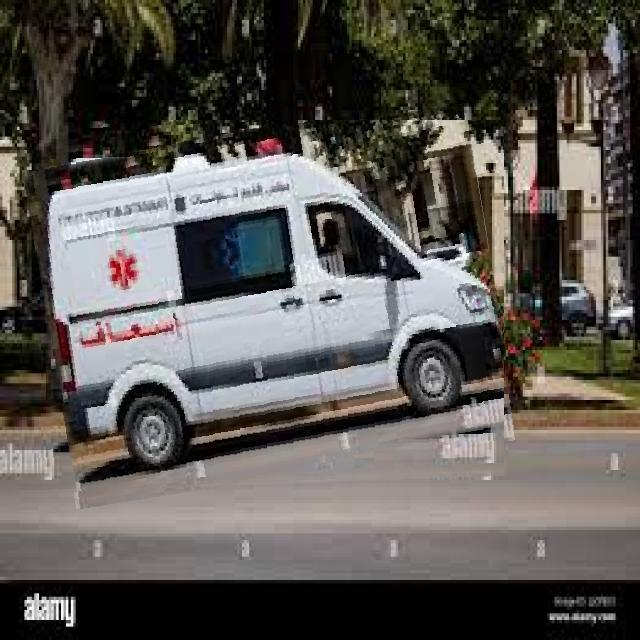ambulance: (35, 120, 504, 493)
